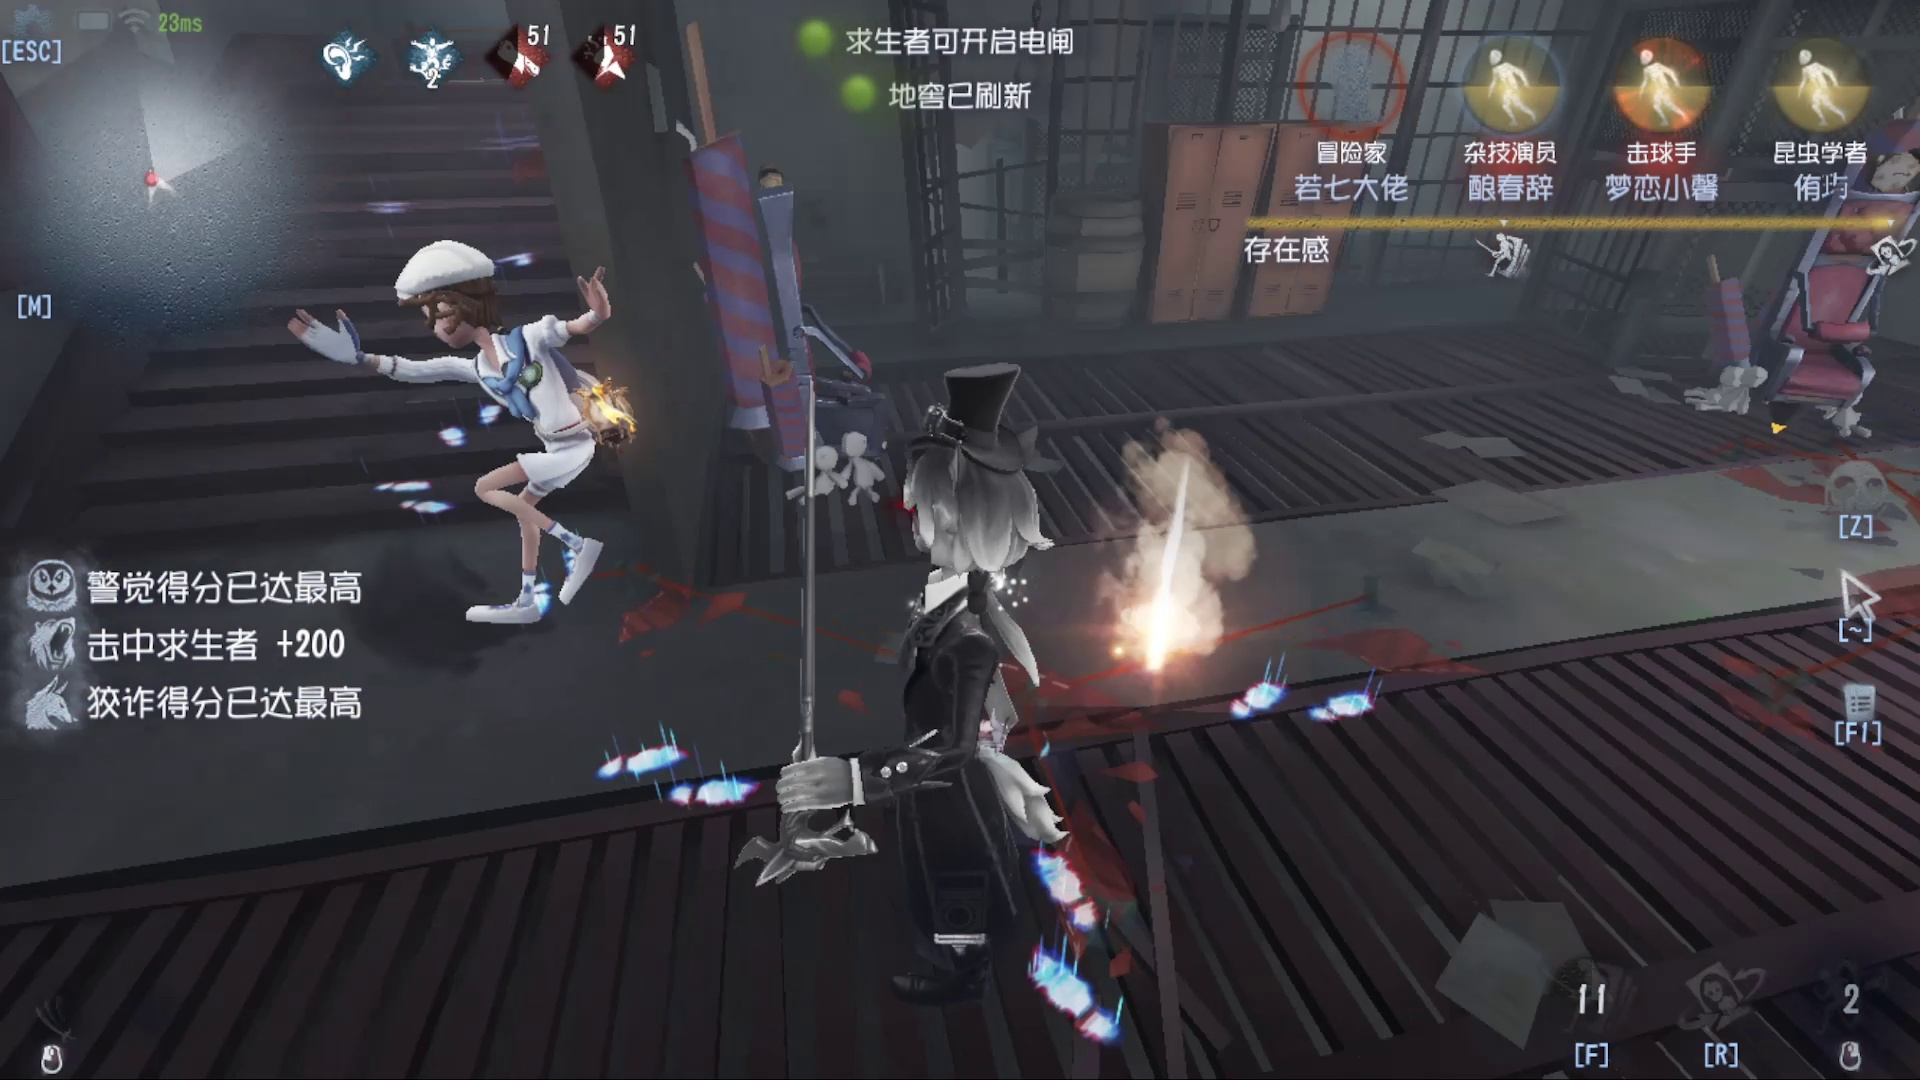求生者: (393, 231, 636, 646)
